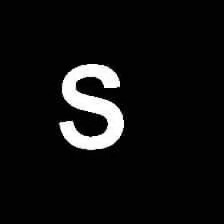LTR_S: (54, 55, 128, 154)
